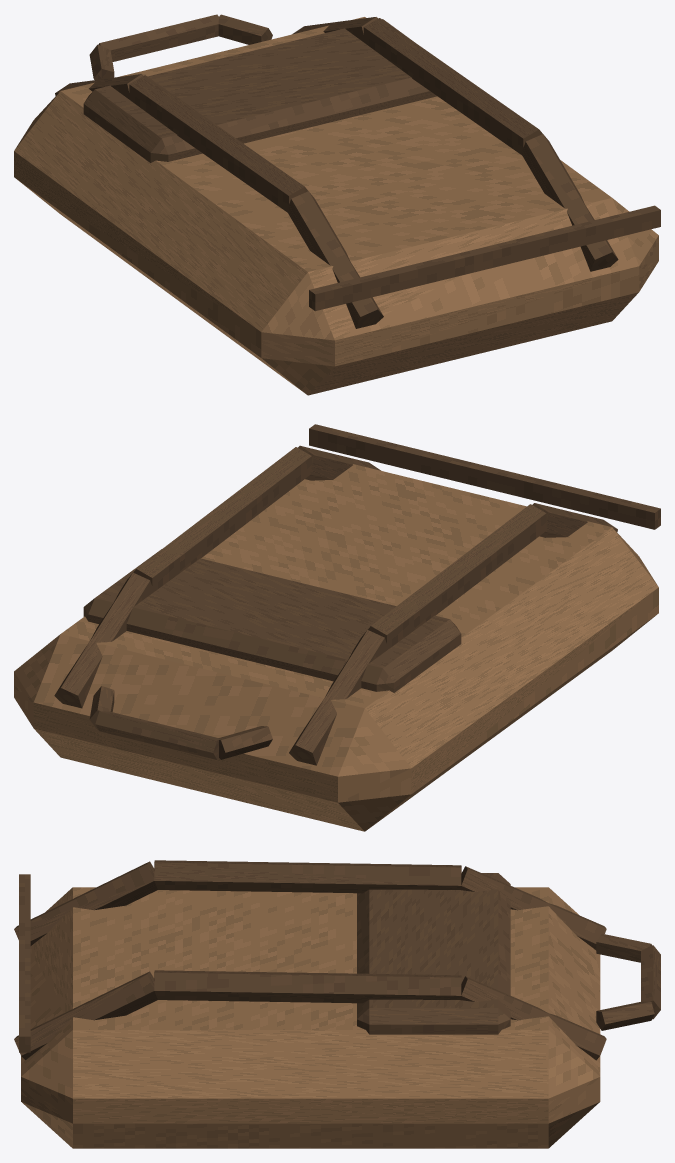
File: ammo_pouch.glb
3 renders of one model, top to bottom at view 1: azimuth 30°, elevation 25°; view 2: azimuth 150°, elevation 25°; view 3: azimuth 270°, elevation 25°, orthographic. The views are drawn at different scales.
Visible parts, largest first — view 1: block_bag shell, block_foldover pouch flap, block_webbing strap 1 (×2), block_zipper, block_webbing strap 2 (×2), block_carry handle 1, block_webbing strap 0 (×2), block_carry handle 2, block_carry handle 0; view 2: block_bag shell, block_foldover pouch flap, block_webbing strap 1 (×2), block_zipper, block_webbing strap 0 (×2), block_carry handle 1, block_webbing strap 2 (×2), block_carry handle 0, block_carry handle 2; view 3: block_bag shell, block_foldover pouch flap, block_webbing strap 1 (×2), block_webbing strap 2 (×2), block_webbing strap 0 (×2), block_zipper, block_carry handle 2, block_carry handle 1, block_carry handle 0.
Boxes of the visible parts, x1,y1,x2,y2 form: block_bag shell: [14, 17, 658, 395]; block_foldover pouch flap: [83, 19, 436, 162]; block_webbing strap 1 (×2): [129, 18, 542, 212]; block_zipper: [309, 205, 660, 311]; block_webbing strap 2 (×2): [286, 134, 618, 328]; block_carry handle 1: [98, 14, 218, 61]; block_webbing strap 0 (×2): [55, 17, 377, 100]; block_carry handle 2: [218, 14, 272, 44]; block_carry handle 0: [89, 44, 114, 79]; block_bag shell: [14, 464, 658, 831]; block_foldover pouch flap: [83, 549, 461, 692]; block_webbing strap 1 (×2): [133, 447, 546, 649]; block_zipper: [309, 424, 660, 529]; block_webbing strap 0 (×2): [54, 572, 388, 765]; block_carry handle 1: [95, 711, 218, 759]; block_webbing strap 2 (×2): [298, 445, 617, 537]; block_carry handle 0: [218, 726, 272, 759]; block_carry handle 2: [89, 686, 114, 729]; block_bag shell: [21, 887, 600, 1148]; block_foldover pouch flap: [357, 873, 510, 1034]; block_webbing strap 1 (×2): [154, 860, 461, 1003]; block_webbing strap 2 (×2): [14, 861, 157, 1059]; block_webbing strap 0 (×2): [460, 866, 606, 1060]; block_zipper: [19, 874, 30, 1052]; block_carry handle 2: [596, 1001, 654, 1030]; block_carry handle 1: [641, 945, 660, 1019]; block_carry handle 0: [596, 933, 651, 962].
Size of the model in its own units: 0.1083 by 0.0438 by 0.1587.
Materials: 1 (1 with a texture image).
